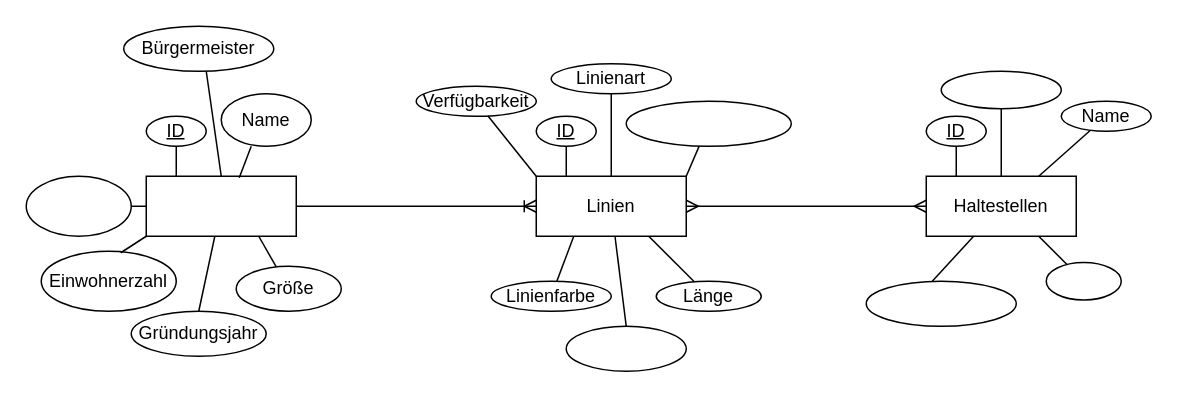
The diagram is 1178 pixels wide and 398 high, and some of its shapes have lost their labels. The shapes that lost their labels are listed below. From the top down, each one's centre as x and y in pixels, then its label:
[1000,89]: Koordinaten
[708,123]: Name/Bezeichnung
[78,205]: Bundesland
[220,205]: Stadt
[1083,280]: Kürzel
[940,303]: Streckenkilometer
[625,348]: Anzahl Fahrzeuge
